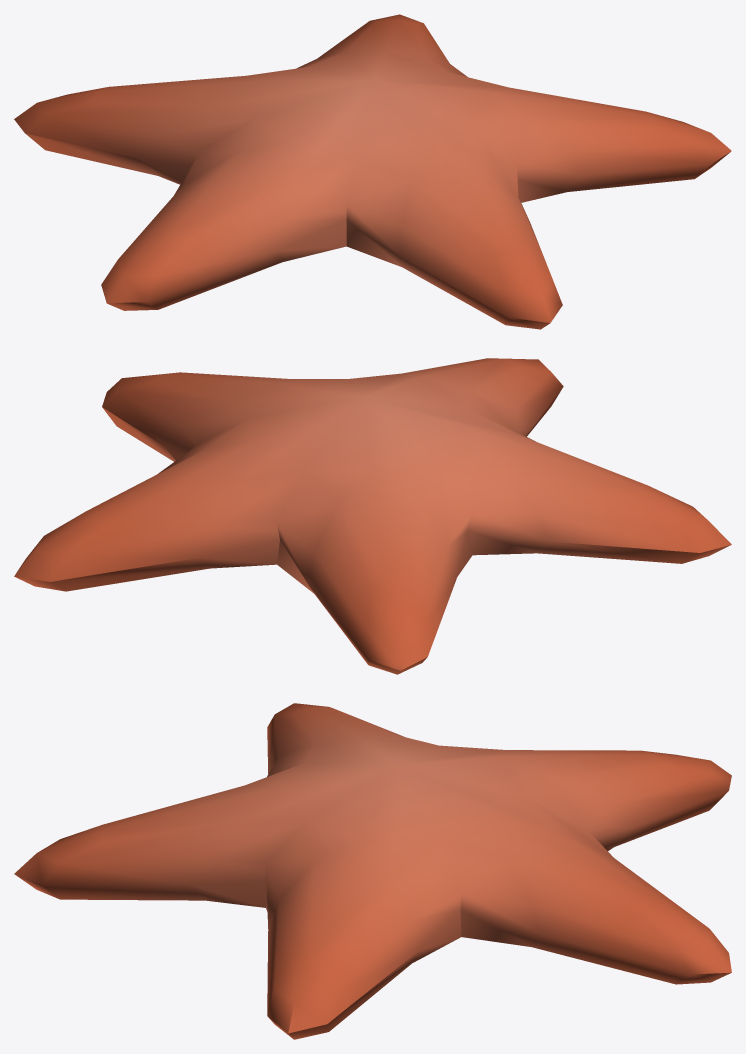
File: StarFish.fbx
3 renders of one model, top to bottom at view 1: azimuth 30°, elevation 25°; view 2: azimuth 150°, elevation 25°; view 3: azimuth 270°, elevation 25°, orthographic. The views are drawn at different scales.
Parts seen in each view (by area): view 1: StarFish; view 2: StarFish; view 3: StarFish.
Part boxes in pixels (x1,y1,x2,y2): StarFish: (14, 14, 731, 329); StarFish: (14, 358, 731, 674); StarFish: (14, 703, 731, 1039).
Size of the model in its own units: 0.5156 by 0.0963 by 0.4904.
